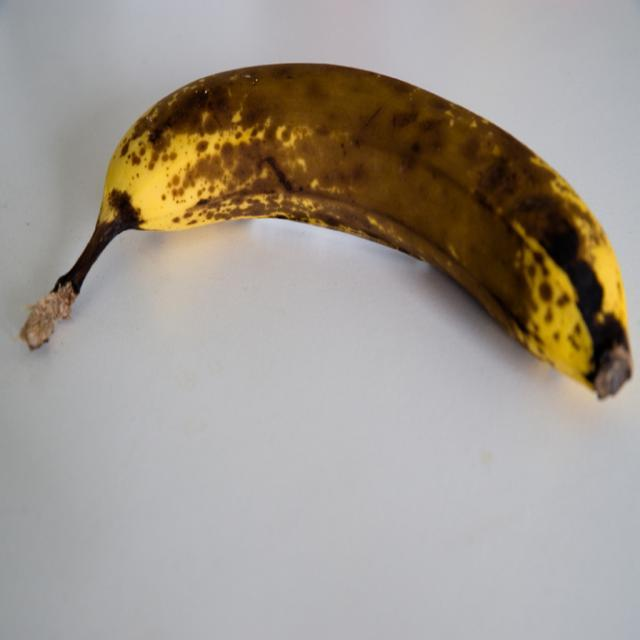Banana: (21, 56, 634, 407)
